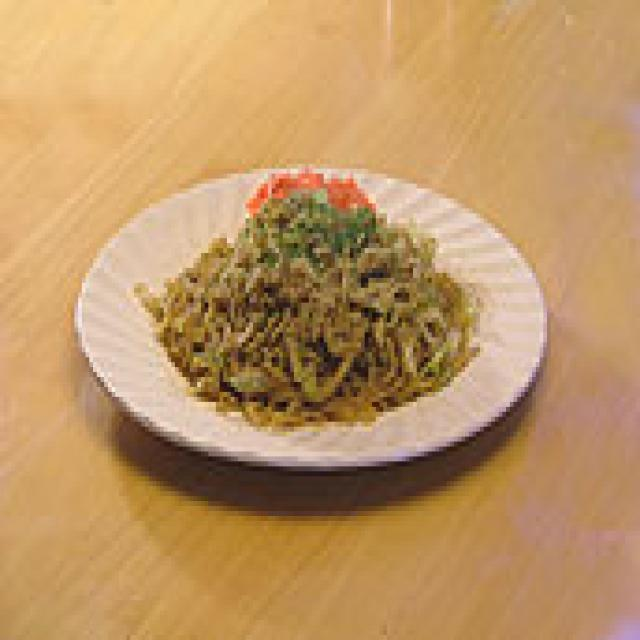面条主食: (52, 129, 566, 501)
